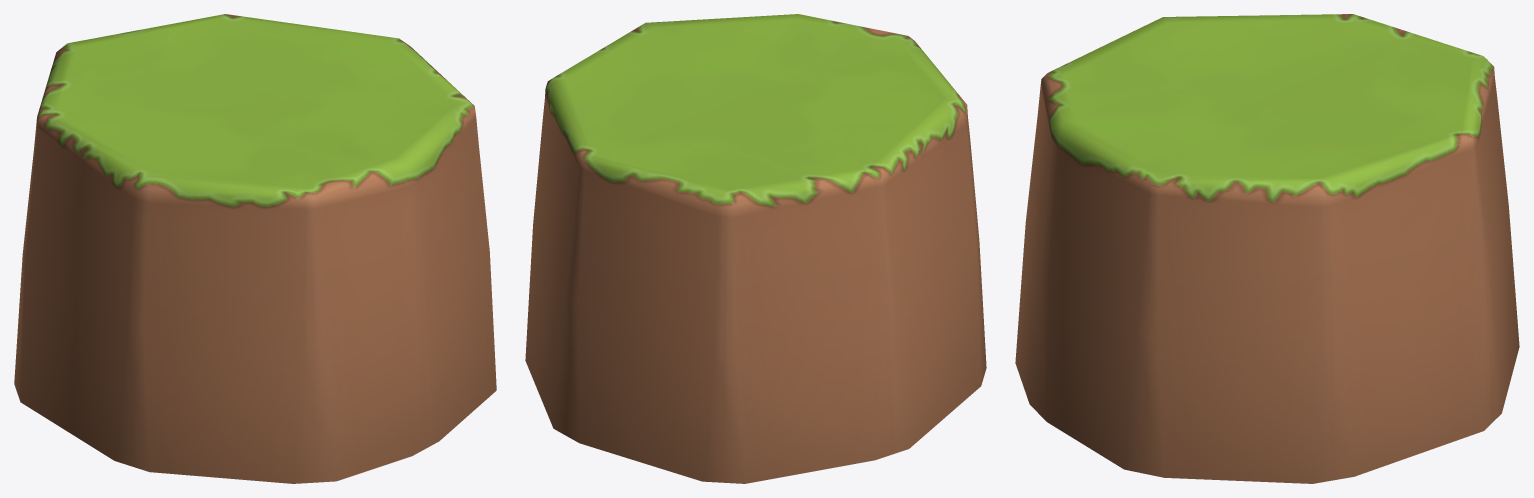
File: casualCliff.fbx
The picture shows the model from 3 angles, left to right: view 1: azimuth 30°, elevation 25°; view 2: azimuth 150°, elevation 25°; view 3: azimuth 270°, elevation 25°; orthographic projection. The views are drawn at different scales.
Parts seen in each view (by area): view 1: lowPolyCliff1; view 2: lowPolyCliff1; view 3: lowPolyCliff1.
Boxes of the visible parts, x1=… form: lowPolyCliff1: x1=14, y1=14, x2=496, y2=483; lowPolyCliff1: x1=525, y1=14, x2=986, y2=483; lowPolyCliff1: x1=1015, y1=14, x2=1519, y2=483.
Bounding box in the file's own units: 225 × 152 × 241.
1 material, 1 textured.
